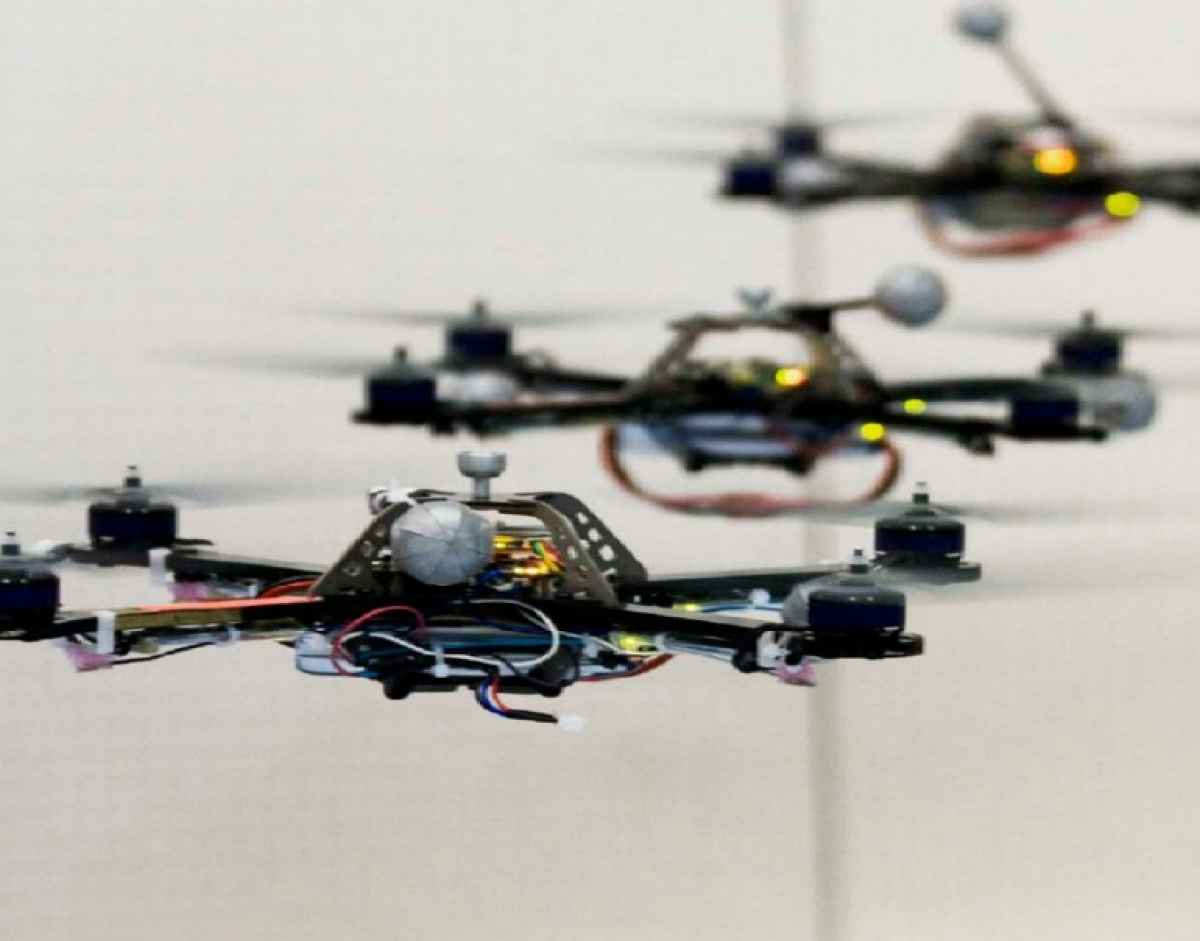drone: (1, 447, 1070, 741), (179, 262, 1200, 506), (576, 94, 1200, 259)
